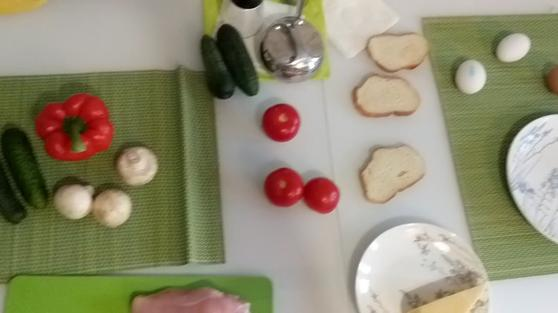champignon: (54, 176, 95, 226), (95, 182, 133, 231), (120, 144, 160, 186)
cheese: (411, 280, 489, 313)
chicken_fillet: (132, 282, 251, 313)
cucumber: (1, 126, 51, 207), (218, 20, 257, 98), (199, 32, 235, 100)
egg: (492, 31, 533, 64), (456, 58, 486, 95)
pepper: (38, 88, 114, 161)
tomato: (259, 100, 303, 144), (305, 174, 342, 214), (268, 170, 305, 207)
white_bread: (362, 141, 426, 204), (351, 71, 423, 120), (366, 29, 432, 73)
